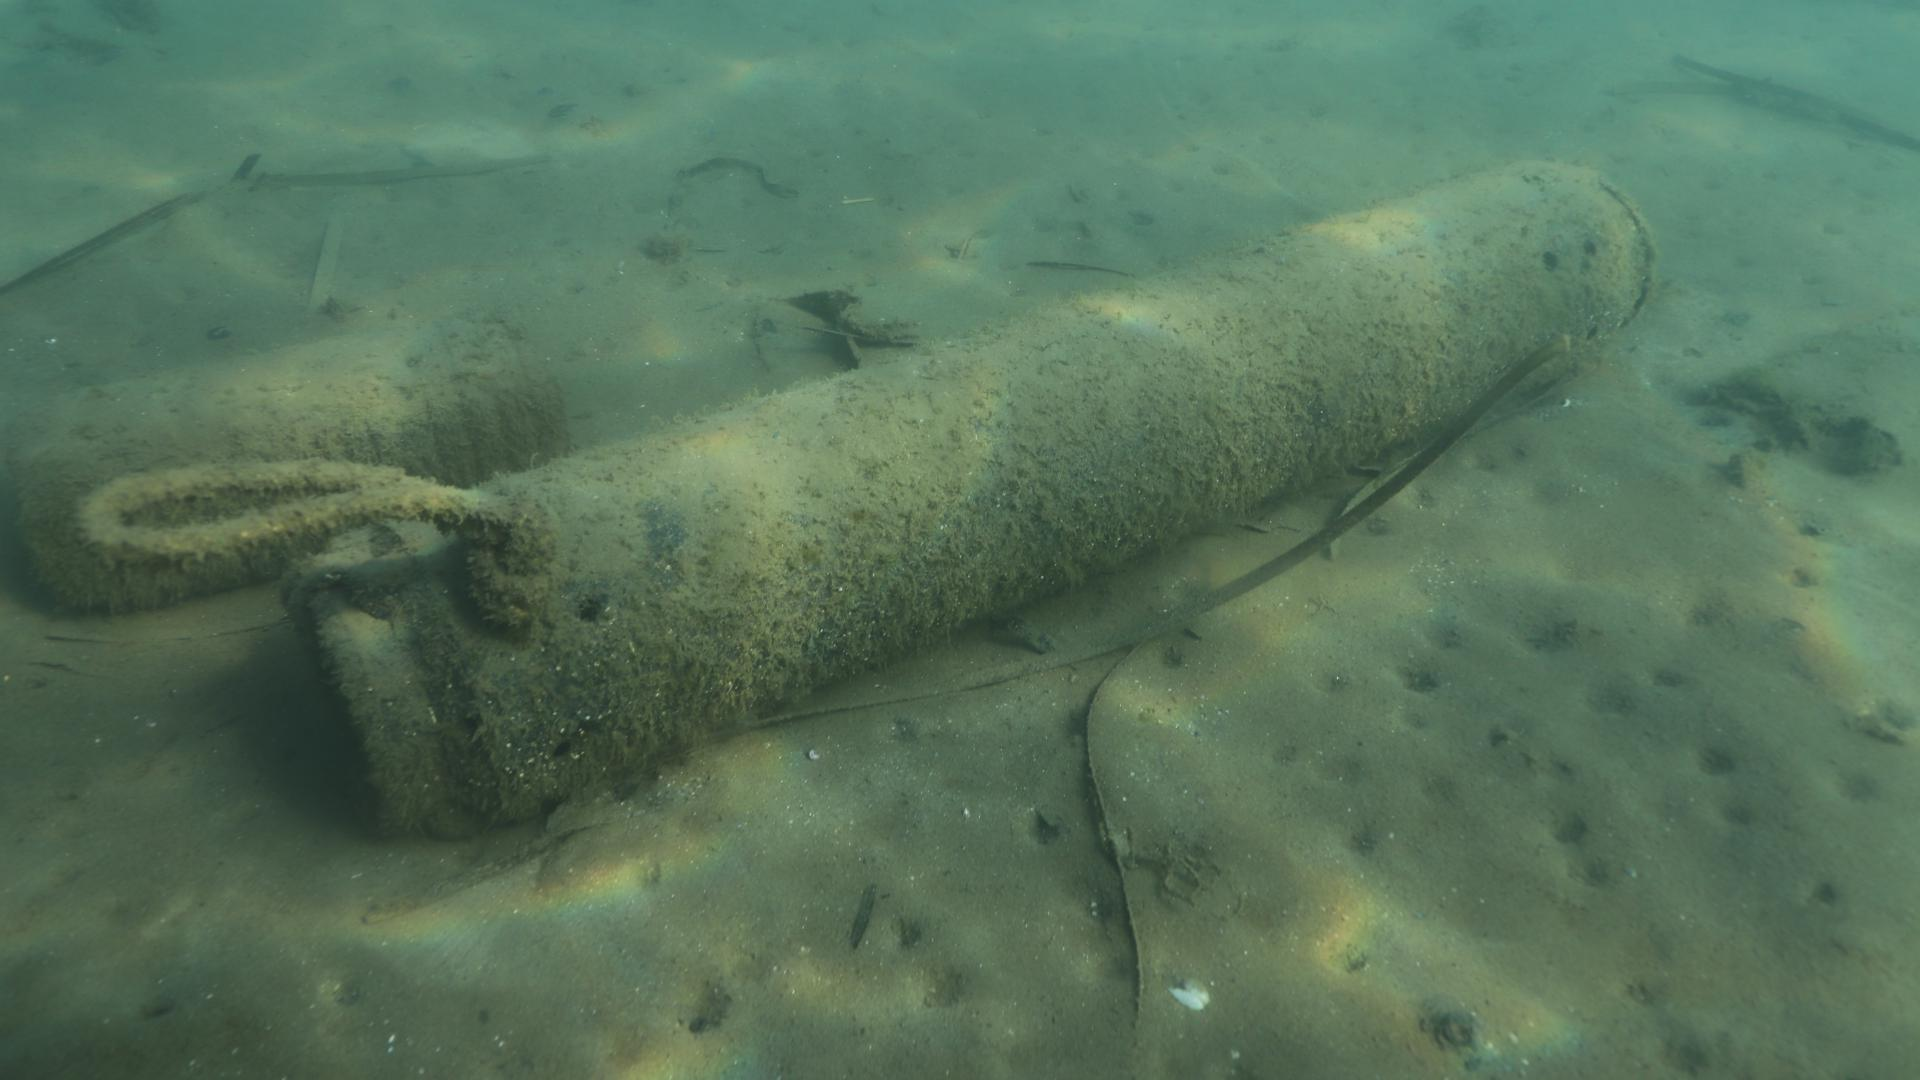bundle of ropes: (73, 462, 560, 632)
eel fish trap: (287, 157, 1660, 841)
